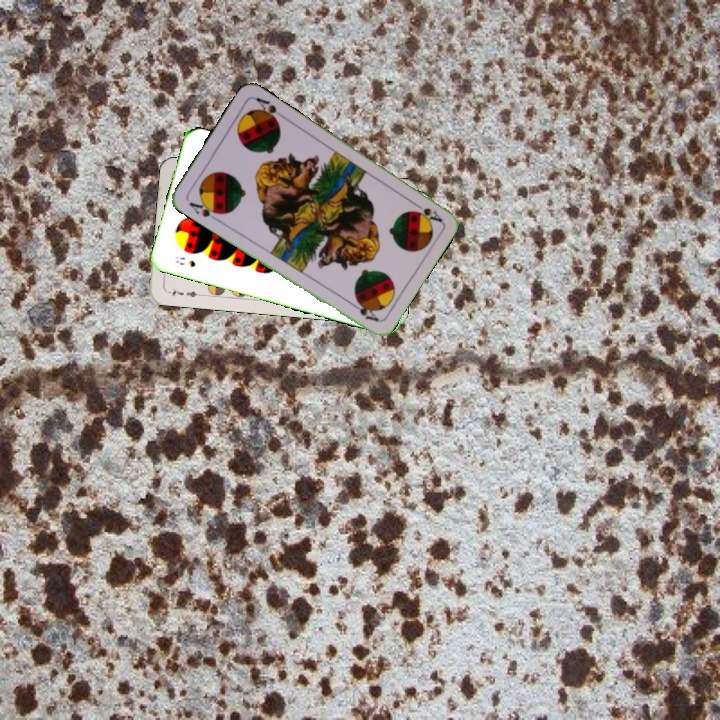E7: (163, 284, 204, 300)
S8: (171, 252, 198, 270)
SA: (185, 196, 224, 224), (408, 198, 445, 225)
